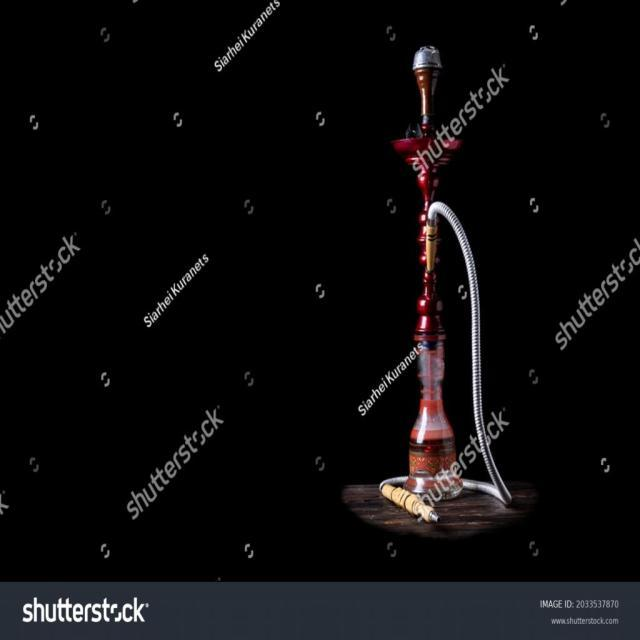smoking: (320, 42, 514, 530)
